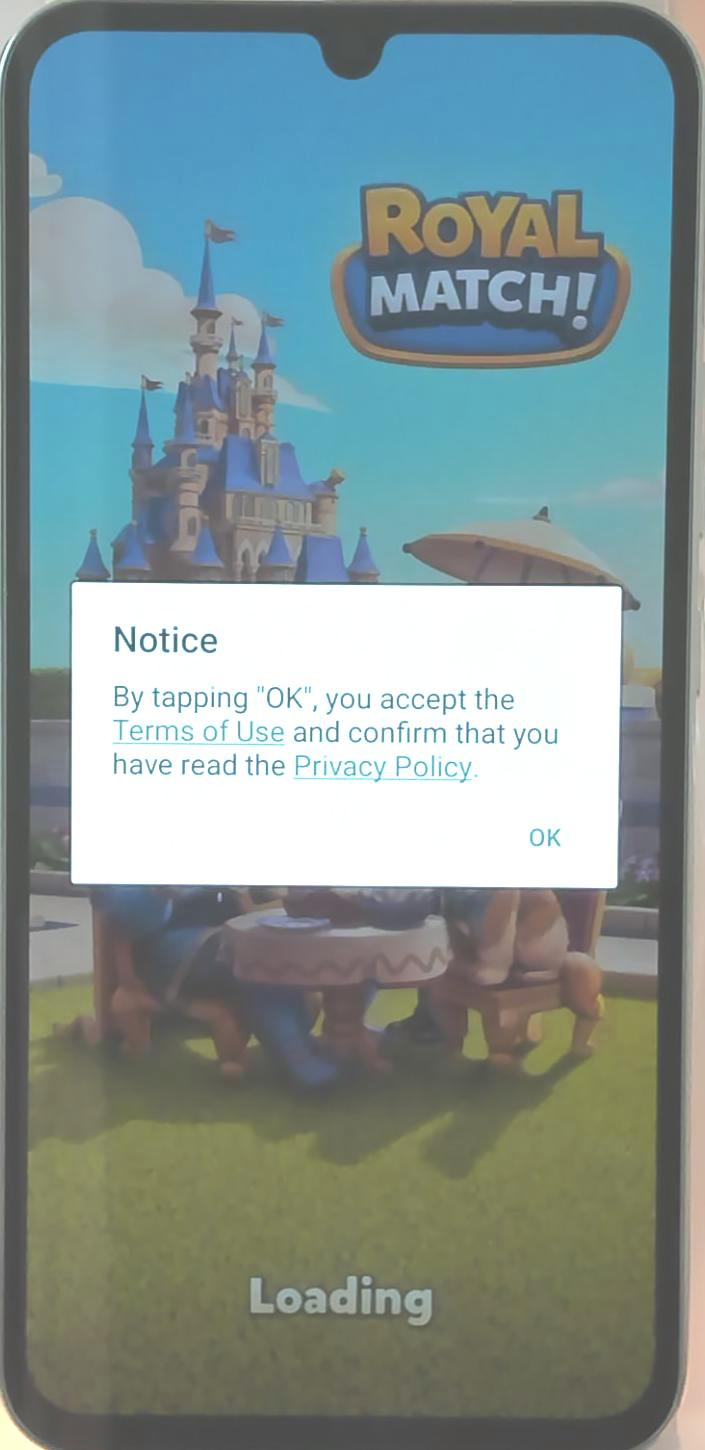CommunBotton: (516, 816, 572, 858)
